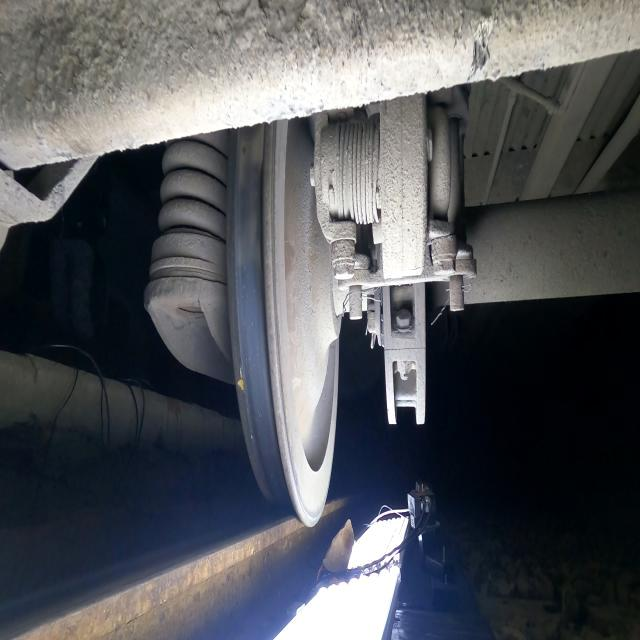Cracks-Scratches: (237, 367, 245, 391)
Shelling: (234, 125, 264, 265)
Wheel: (226, 120, 340, 527)
